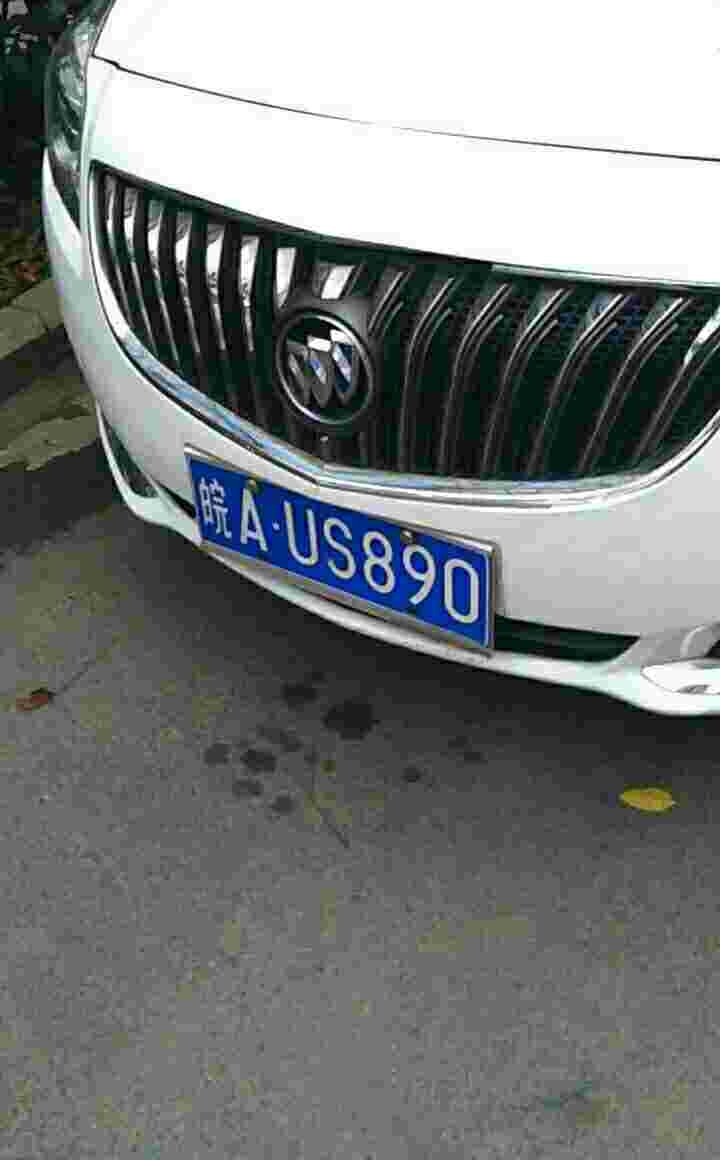license_plate: (185, 456, 520, 644)
